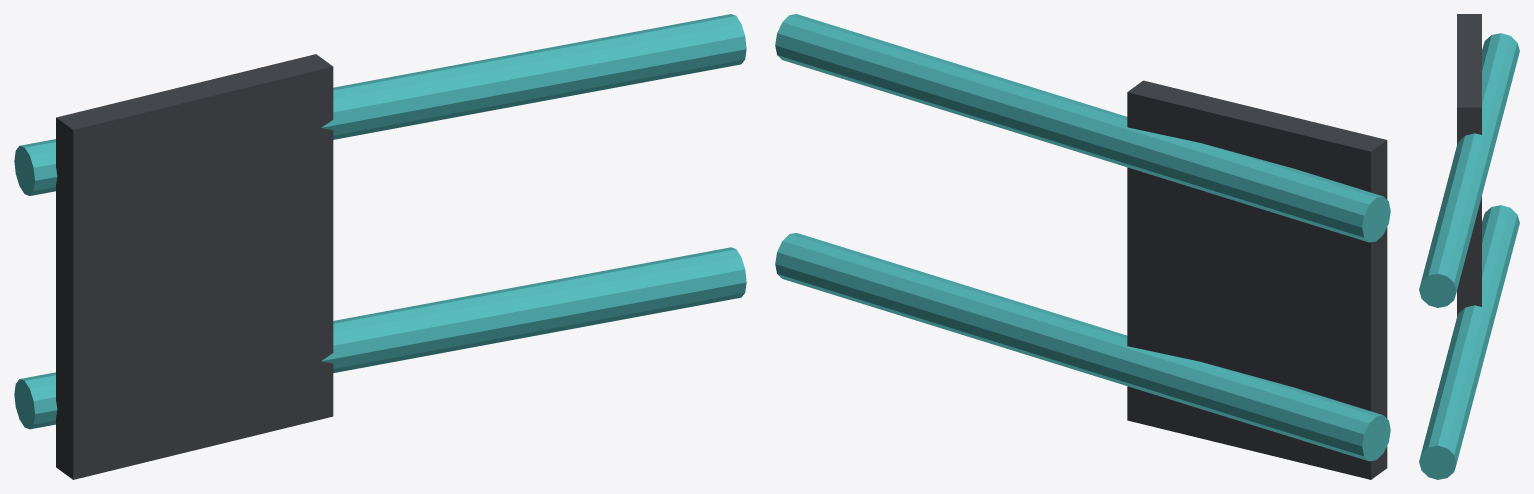
3 renders of one model, left to right at view 1: azimuth 30°, elevation 25°; view 2: azimuth 150°, elevation 25°; view 3: azimuth 270°, elevation 25°, orthographic. The views are drawn at different scales.
Parts seen in each view (by area): view 1: geometry_0; view 2: geometry_0; view 3: geometry_0.
Part boxes in pixels (x1,y1,x2,y2): geometry_0: [14, 14, 746, 479]; geometry_0: [775, 14, 1390, 479]; geometry_0: [1419, 14, 1519, 479].
Size of the model in its own units: 0.3627 by 0.18 by 0.0639.
